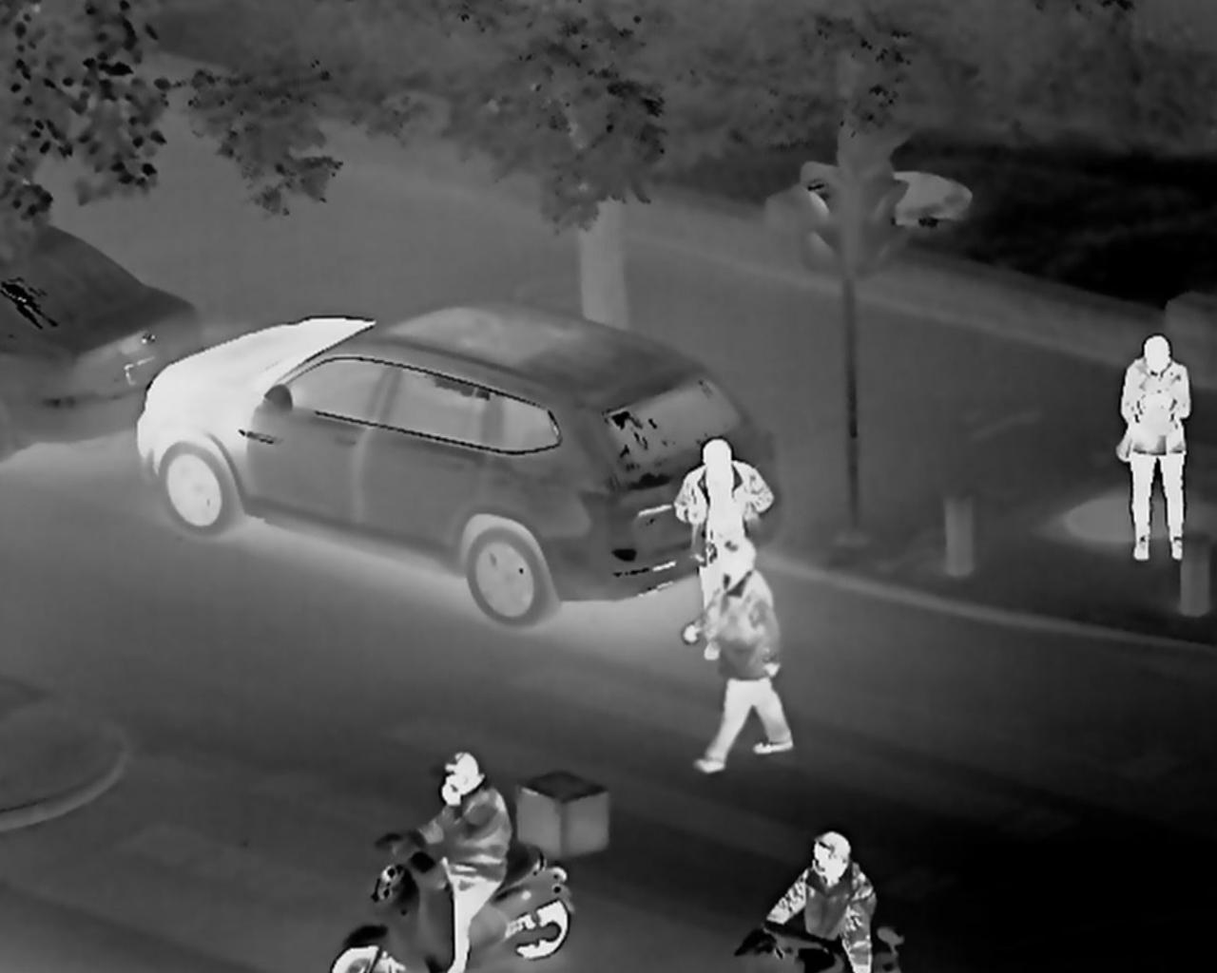person: (697, 526, 802, 775), (414, 743, 525, 964), (781, 803, 916, 970), (1115, 338, 1190, 551), (668, 419, 754, 518)
